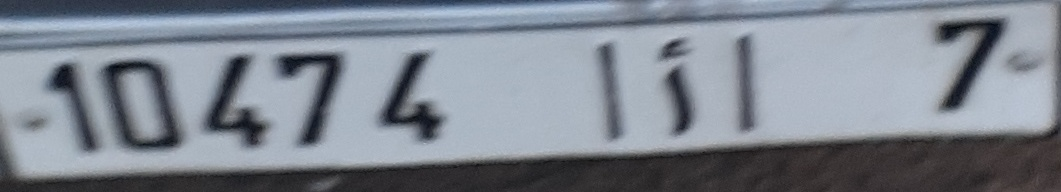0: (101, 54, 185, 154)
1: (43, 59, 101, 157)
4: (195, 50, 275, 149), (374, 44, 450, 147)
7: (927, 18, 1012, 113), (274, 48, 347, 153)
a: (651, 30, 701, 142)
